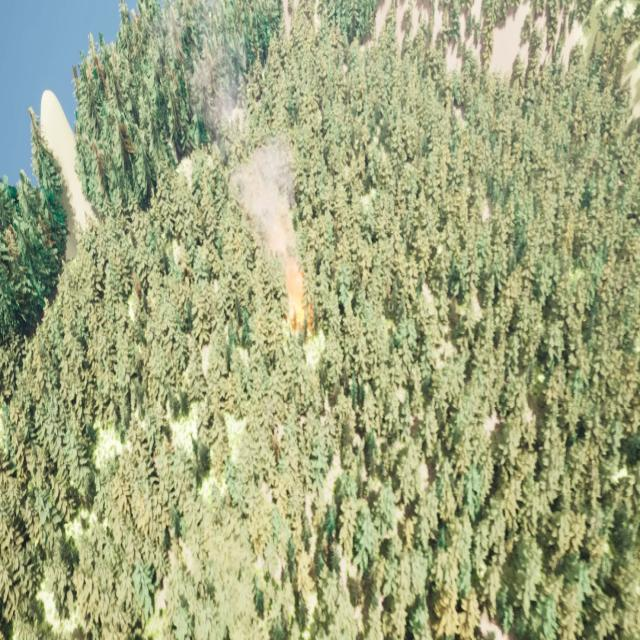fire: (287, 280, 315, 332)
smoke: (183, 21, 302, 280)
